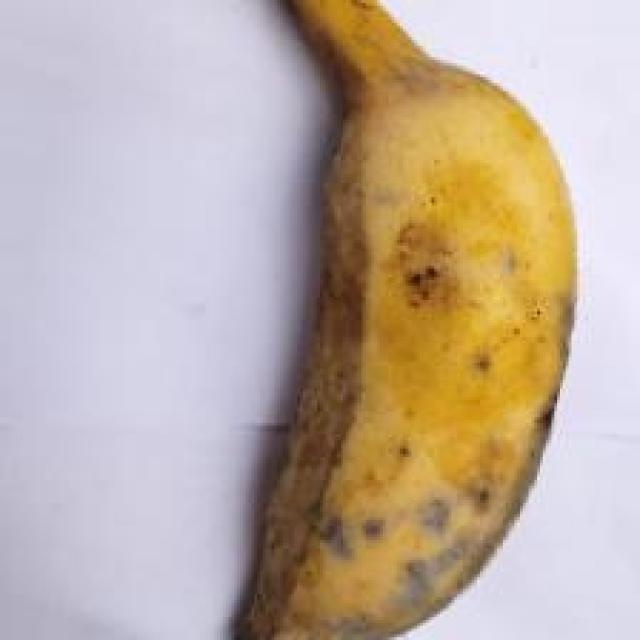bananas: (271, 9, 557, 635)
